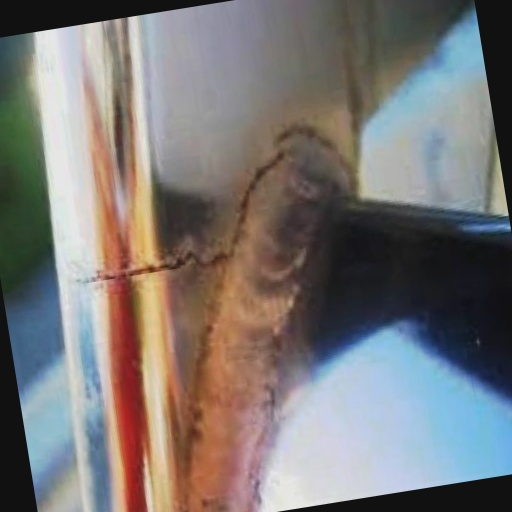crack: (60, 235, 236, 304)
